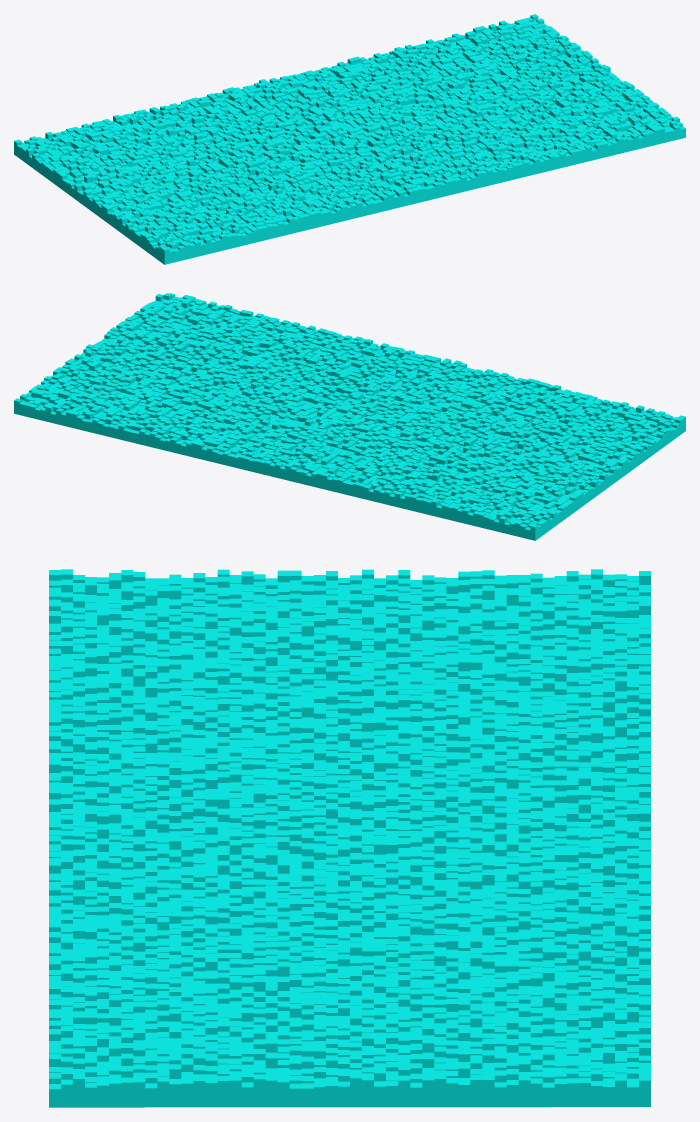
The model's file is mapBaseElement1.fbx.
3 renders of one model, top to bottom at view 1: azimuth 30°, elevation 25°; view 2: azimuth 150°, elevation 25°; view 3: azimuth 270°, elevation 25°, orthographic. The views are drawn at different scales.
Visible parts, largest first — view 1: mapBaseElement1; view 2: mapBaseElement1; view 3: mapBaseElement1.
Boxes of the visible parts, x1,y1,x2,y2 form: mapBaseElement1: (14,14,685,264); mapBaseElement1: (14,293,685,540); mapBaseElement1: (49,569,650,1107).
Size of the model in its own units: 10000 by 268 by 5000.
